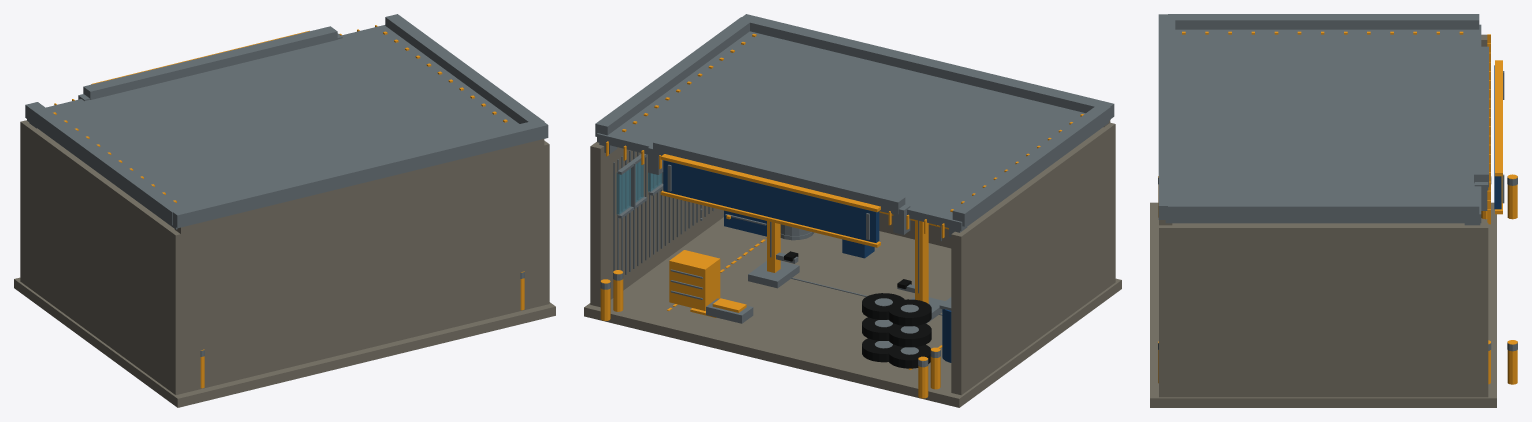
The model's file is vehicle_service_garage.obj.
3 renders of one model, left to right at view 1: azimuth 30°, elevation 25°; view 2: azimuth 150°, elevation 25°; view 3: azimuth 270°, elevation 25°, orthographic. The views are drawn at different scales.
Parts seen in each view (by area): view 1: VehicleServiceGarage; view 2: VehicleServiceGarage; view 3: VehicleServiceGarage.
Part boxes in pixels (x1,y1,x2,y2): VehicleServiceGarage: [14, 14, 555, 407]; VehicleServiceGarage: [584, 14, 1121, 407]; VehicleServiceGarage: [1150, 14, 1517, 407].
Size of the model in its own units: 10.4 by 4.96 by 8.27.
